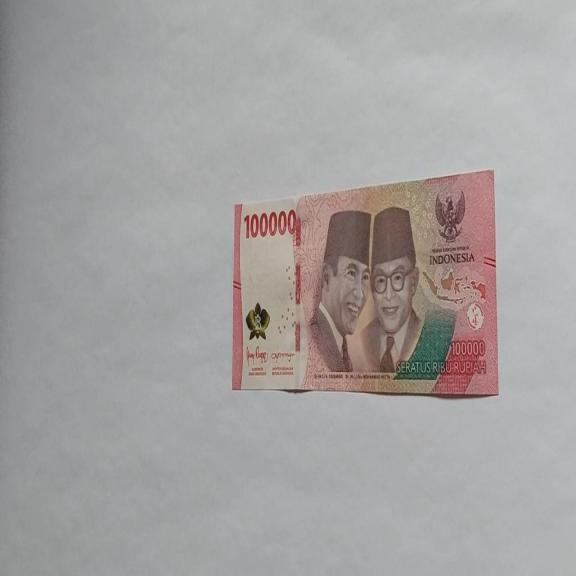Kertas: (231, 168, 499, 398), (243, 207, 297, 240)
